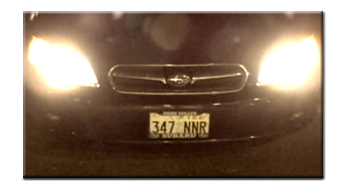license plate: (147, 110, 211, 141)
